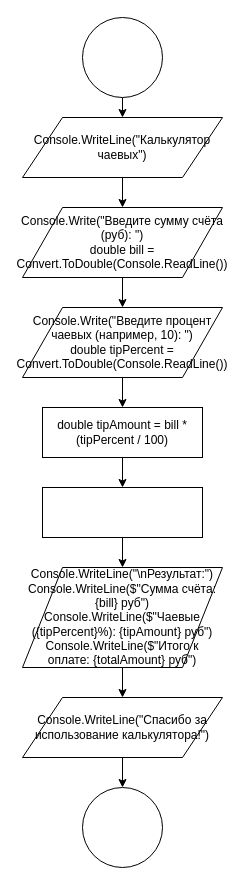
The diagram is 245 pixels wide and 885 high, and some of its shapes have lost their labels. Each missing label, with the centre of its shape:
double totalAmount = bill + tipAmount: point (122, 512)
Конец: point (122, 827)
Начало: point (122, 57)
